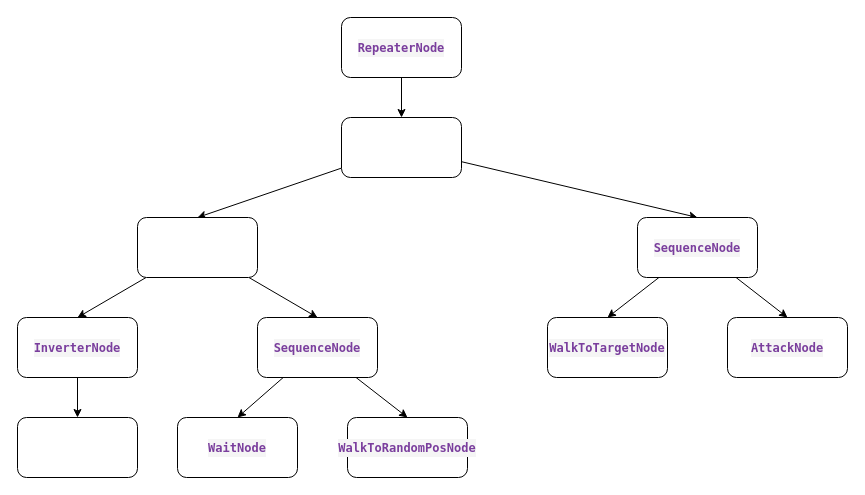
The diagram is 865 pixels wide and 495 high, and some of its shapes have lost their labels. The centre of each missing label's shape, as x and y in pixels:
"MonitorNode" belongs at [77,447].
"ParallelNode" belongs at [197,247].
"SelectorNode" belongs at [401,147].
